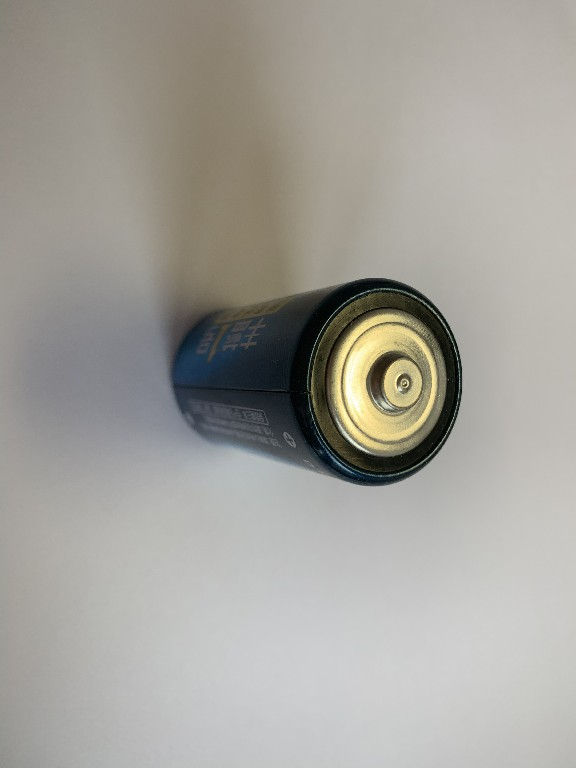charge: (168, 270, 468, 490)
